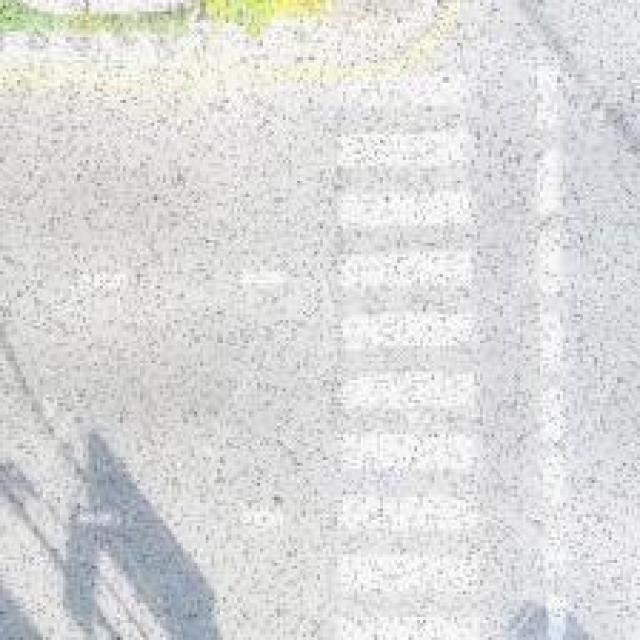zebra: (333, 73, 485, 634)
